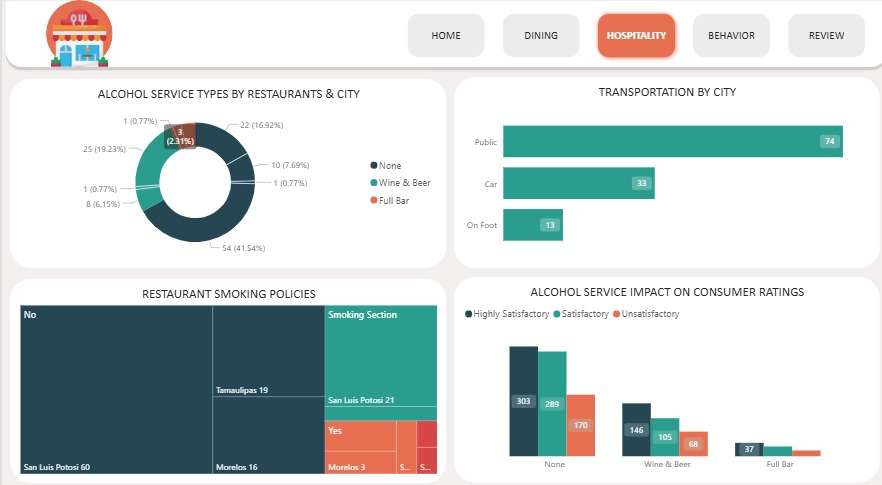

The page's visual inventory and layout, read from the dashboard file:
{"tool":"powerbi","page":{"name":"HOSPITALITY","canvas":[1280,720],"ordinal":2},"visuals":[{"type":"donutChart","title":"ALCOHOL SERVICE TYPES BY RESTAURANTS & CITY ","fields":{"Category":["restaurants.Alcohol_Service"],"Y":["Count(restaurants.Restaurant_ID)"],"Series":["restaurants.City"]},"box":[11.3,118.6,628.2,272.5],"z":0},{"type":"treemap","title":"RESTAURANT SMOKING POLICIES","fields":{"Group":["restaurants.Smoking_Allowed"],"Values":["CountNonNull(restaurants.Restaurant_ID)"],"Details":["restaurants.State"]},"box":[11.3,406.6,628.2,293.6],"z":1000},{"type":"clusteredColumnChart","title":"ALCOHOL SERVICE IMPACT ON CONSUMER RATINGS","fields":{"Category":["restaurants.Alcohol_Service"],"Series":["ratings.Overall_Rating_Category"],"Y":["CountNonNull(ratings.Consumer_ID)"]},"box":[650.8,403.8,612.7,296.5],"z":2000},{"type":"barChart","title":"TRANSPORTATION BY CITY","fields":{"Category":["consumers.Transportation_Method"],"Y":["CountNonNull(consumers.Consumer_ID)"]},"box":[650.8,115.8,612.7,275.3],"z":3000},{"type":"shape","box":[0,0,1280.5,105.9],"z":4000},{"type":"pageNavigator","box":[576,15.5,677.6,79.1],"z":5000},{"type":"shape","box":[63.7,4.4,96.2,96.7],"z":6000},{"type":"image","box":[56,9.3,111.5,101.1],"z":7000}]}

Visuals, with their boxes in screenshot pixels (x1, y1, x2, y2), scaled from the page's 1280x720 canvas onto the 882x485 screenshot:
"ALCOHOL SERVICE TYPES BY RESTAURANTS & CITY " donutChart: 8/80/441/263
"RESTAURANT SMOKING POLICIES" treemap: 8/274/441/472
"ALCOHOL SERVICE IMPACT ON CONSUMER RATINGS" clusteredColumnChart: 448/272/871/472
"TRANSPORTATION BY CITY" barChart: 448/78/871/263
shape: 0/0/881/71
pageNavigator: 397/10/864/64
shape: 44/3/110/68
image: 39/6/115/74
